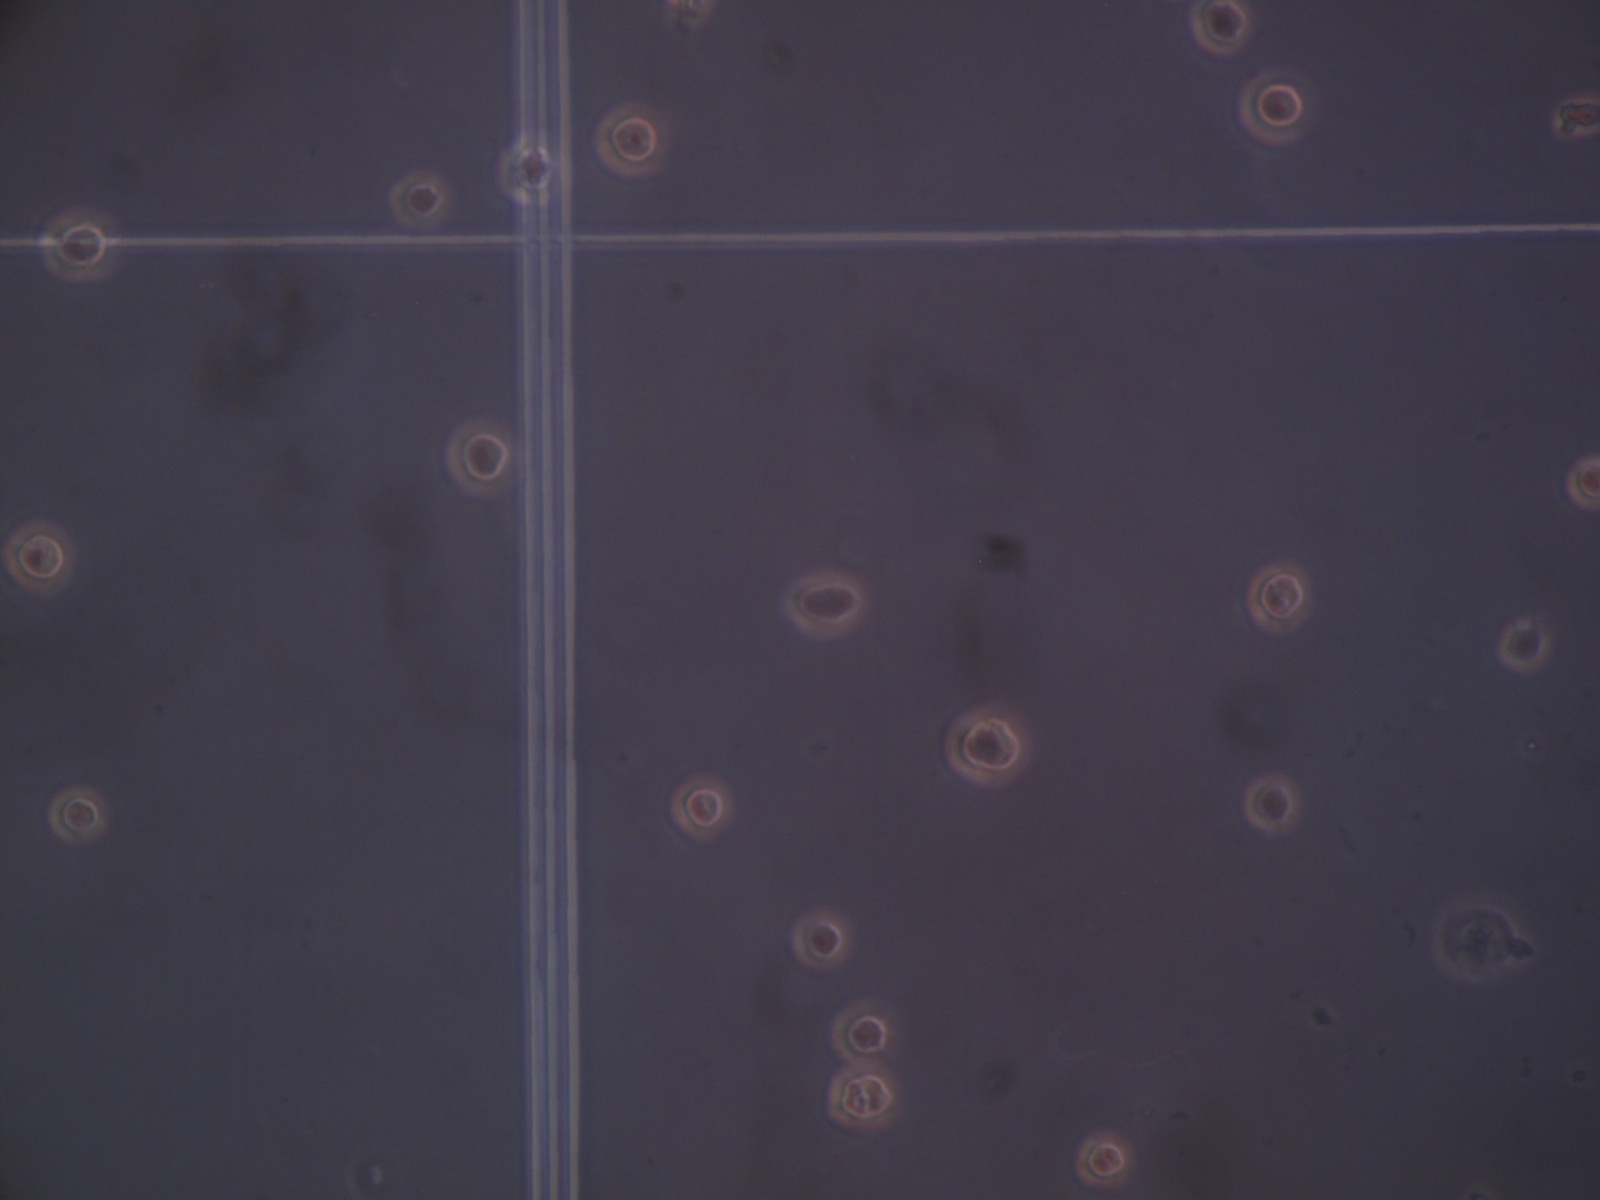hemo: (944, 705, 1029, 787), (42, 205, 123, 284), (1235, 66, 1314, 144), (447, 415, 518, 500), (593, 102, 668, 176), (3, 518, 76, 592), (784, 574, 866, 638), (669, 773, 740, 845), (1247, 558, 1311, 637), (826, 1063, 898, 1127), (833, 998, 900, 1066), (496, 129, 554, 207), (389, 171, 457, 229), (1073, 1128, 1133, 1187), (48, 784, 107, 843), (790, 913, 850, 971), (1243, 774, 1301, 833), (1192, 1, 1254, 55), (1500, 616, 1548, 672), (1552, 96, 1600, 137), (1567, 454, 1600, 512)
